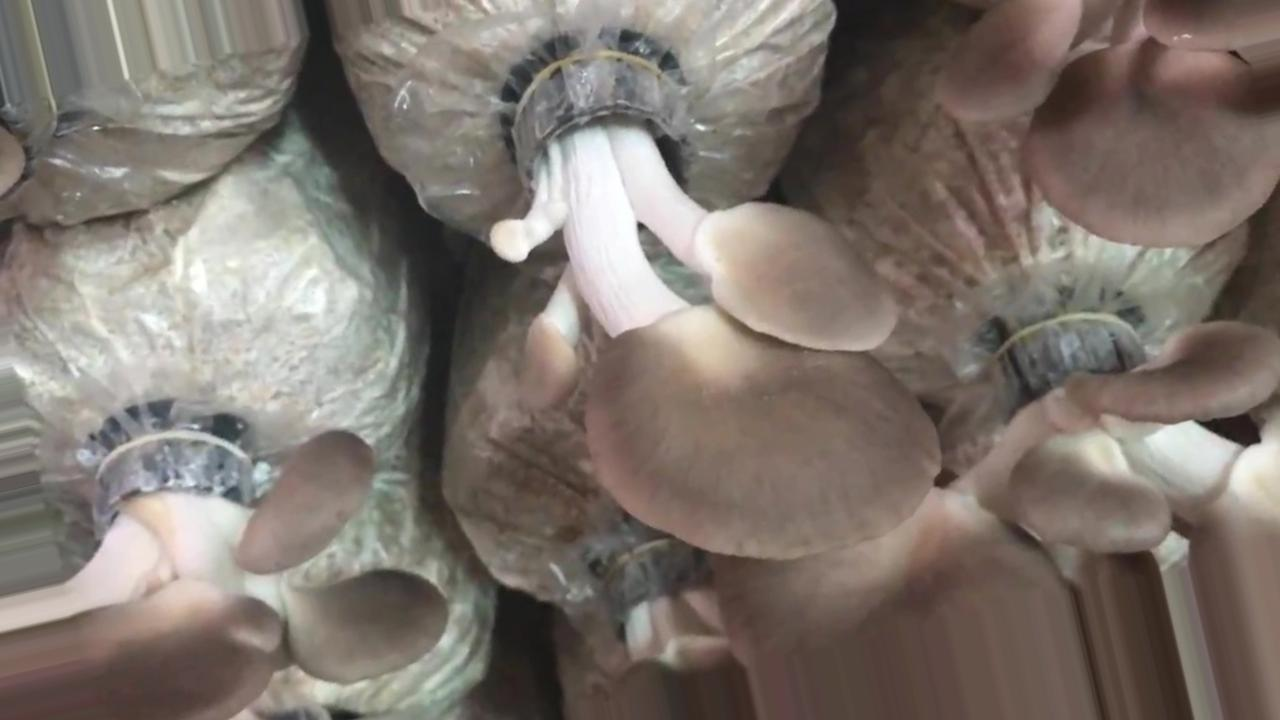nam: (491, 32, 938, 566), (746, 306, 1279, 720), (8, 402, 450, 720), (941, 5, 1278, 255)
